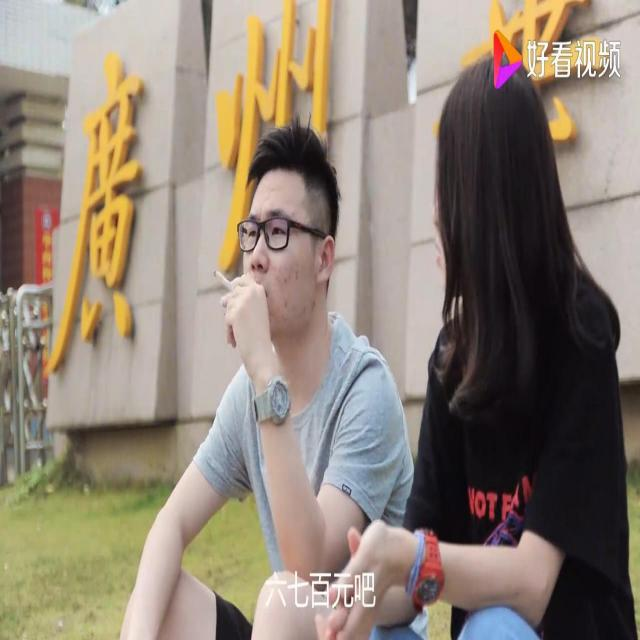cigarette: (210, 261, 238, 298)
